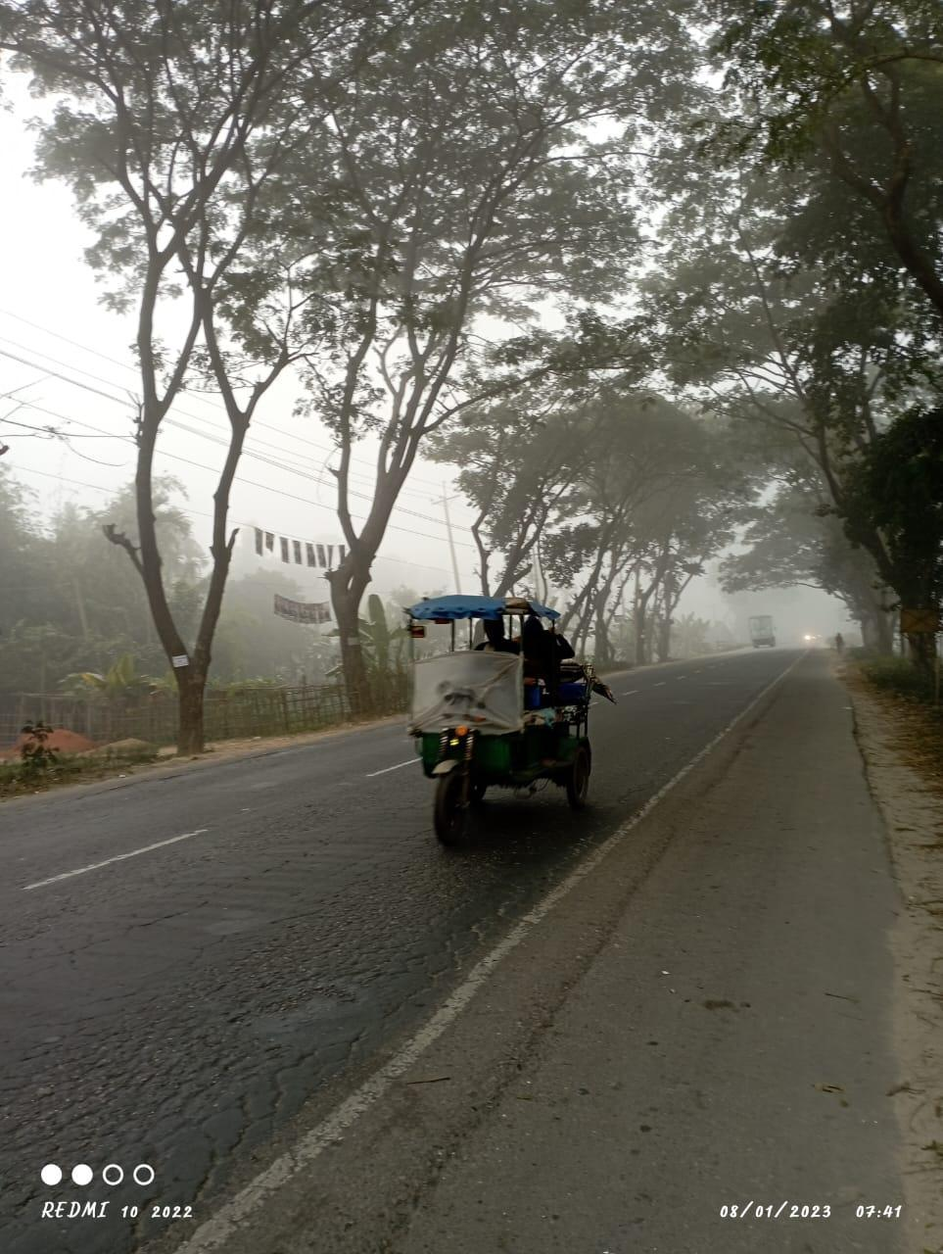Car: (392, 587, 608, 838)
Truck: (742, 608, 780, 655)
